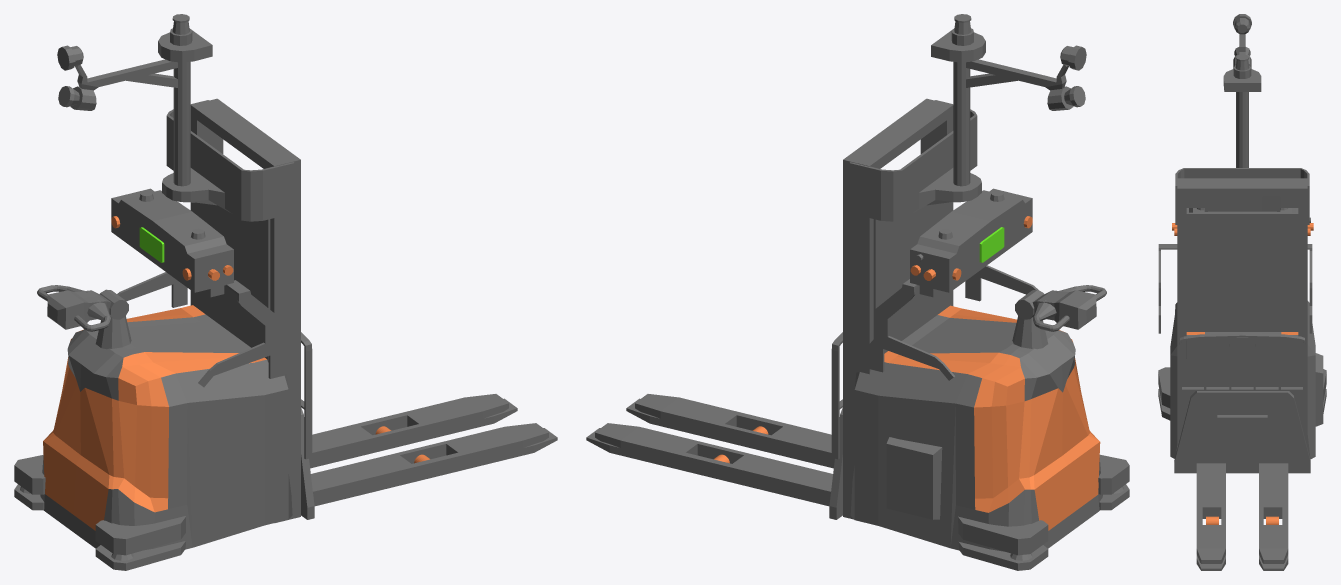
The model's file is SAE low poly.fbx.
3 views of the same model, side by side, from view 1: azimuth 30°, elevation 25°; view 2: azimuth 150°, elevation 25°; view 3: azimuth 270°, elevation 25° (orthographic). The views are drawn at different scales.
Visible parts, largest first — view 1: mainbody, fork.001, frontmass, controlbox, protector, masttop, controlframe, sensor.001, sensortop, forkstatic, Cube.001, sensor (+7 smaller); view 2: mainbody, fork.001, frontmass, controlbox, protector, masttop, chargepad, controlframe, sensor.001, forkstatic, sensortop, Cube.001 (+8 smaller); view 3: protector, mainbody, Cube.004, frontmass, fork.001, fender, masttop, sensortop, Cube, controlframe, chargepad, sensor.001 (+5 smaller).
Boxes of the visible parts, left/top/right/bottom form: mainbody: left=40, top=305, right=292, bottom=550; fork.001: left=309, top=394, right=548, bottom=504; frontmass: left=190, top=98, right=300, bottom=523; controlbox: left=111, top=188, right=233, bottom=297; protector: left=192, top=202, right=270, bottom=362; masttop: left=166, top=100, right=294, bottom=221; controlframe: left=117, top=272, right=284, bottom=387; sensor.001: left=14, top=455, right=185, bottom=555; sensortop: left=158, top=30, right=212, bottom=186; forkstatic: left=309, top=398, right=557, bottom=506; Cube.001: left=75, top=59, right=177, bottom=90; sensor: left=14, top=484, right=185, bottom=570; mainbody: left=850, top=305, right=1102, bottom=551; fork.001: left=595, top=394, right=834, bottom=504; frontmass: left=843, top=98, right=953, bottom=519; controlbox: left=910, top=188, right=1032, bottom=297; protector: left=873, top=202, right=951, bottom=353; masttop: left=849, top=100, right=977, bottom=221; chargepad: left=886, top=437, right=942, bottom=519; controlframe: left=868, top=265, right=1038, bottom=380; sensor.001: left=958, top=454, right=1129, bottom=555; forkstatic: left=586, top=398, right=834, bottom=506; sensortop: left=931, top=30, right=985, bottom=186; Cube.001: left=966, top=59, right=1068, bottom=90; protector: left=1186, top=212, right=1298, bottom=331; mainbody: left=1170, top=301, right=1315, bottom=459; Cube.004: left=1174, top=391, right=1310, bottom=473; frontmass: left=1177, top=178, right=1307, bottom=447; fork.001: left=1196, top=463, right=1288, bottom=563; fender: left=1179, top=333, right=1305, bottom=428; masttop: left=1175, top=168, right=1309, bottom=224; sensortop: left=1223, top=69, right=1261, bottom=167; Cube: left=1204, top=196, right=1280, bottom=211; controlframe: left=1158, top=244, right=1312, bottom=333; chargepad: left=1315, top=353, right=1323, bottom=426; sensor.001: left=1158, top=367, right=1326, bottom=408.
Size of the model in its own units: 236 by 234 by 92.4.
